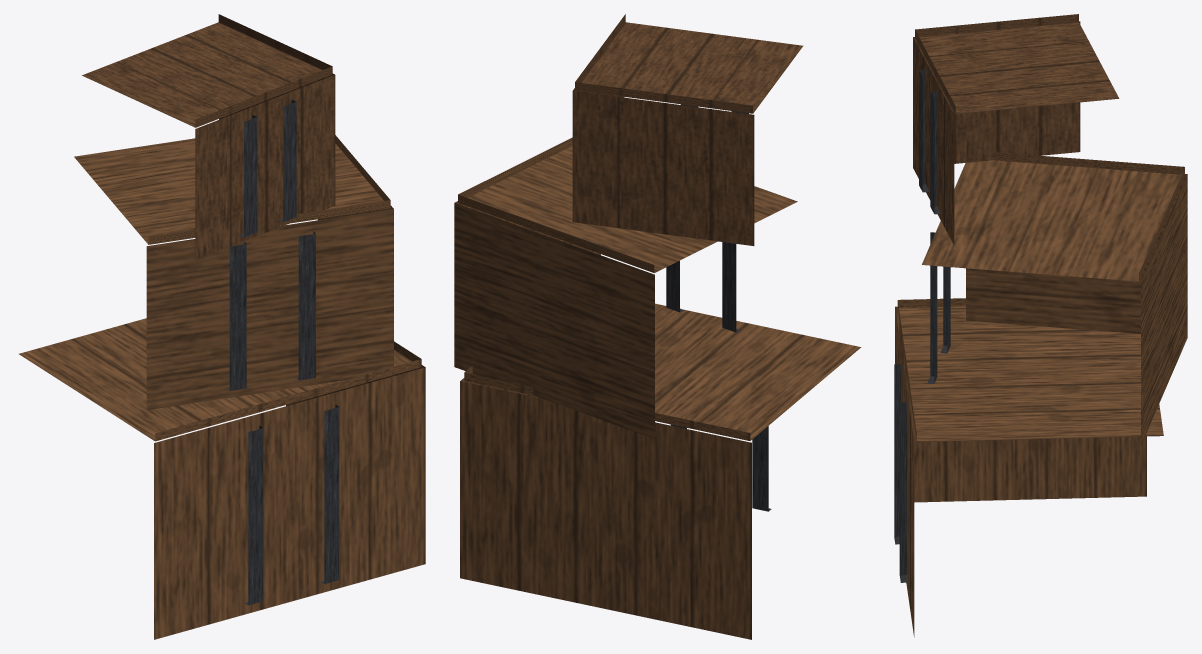
Rendered from prop_haven_crate_stack_a.glb.
The picture shows the model from 3 angles, left to right: view 1: azimuth 30°, elevation 25°; view 2: azimuth 150°, elevation 25°; view 3: azimuth 270°, elevation 25°; orthographic projection.
Visible parts, largest first — view 1: prop_haven_crate_stack_a; view 2: prop_haven_crate_stack_a; view 3: prop_haven_crate_stack_a.
Boxes of the visible parts, x1,y1,x2,y2 form: prop_haven_crate_stack_a: [19, 14, 425, 639]; prop_haven_crate_stack_a: [454, 14, 861, 639]; prop_haven_crate_stack_a: [894, 14, 1187, 637].
Size of the model in its own units: 0.7662 by 1.22 by 0.6506.
Materials: 1 (1 with a texture image).
